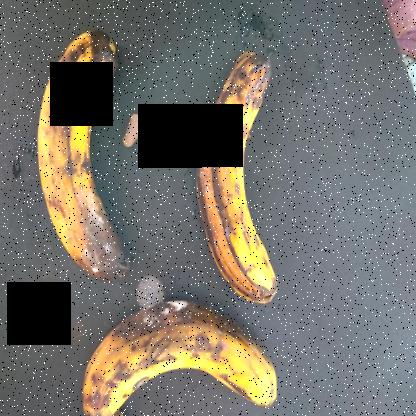rotten: (183, 36, 301, 316), (23, 4, 138, 278), (81, 284, 285, 414)
